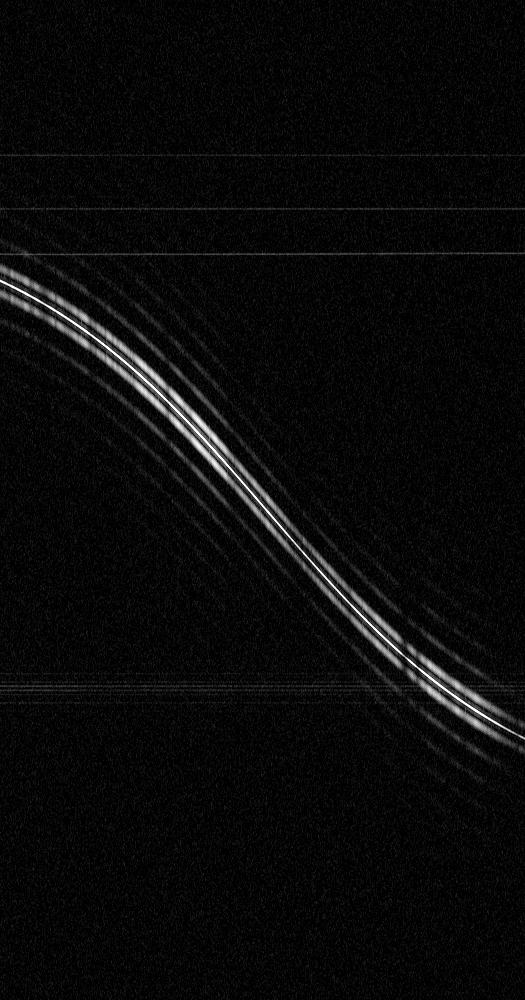signal: (0, 0, 524, 999)
